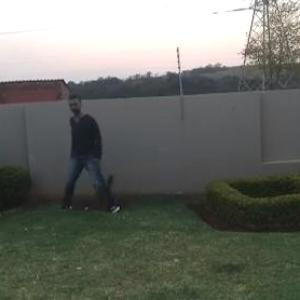follow: (69, 92, 108, 219)
